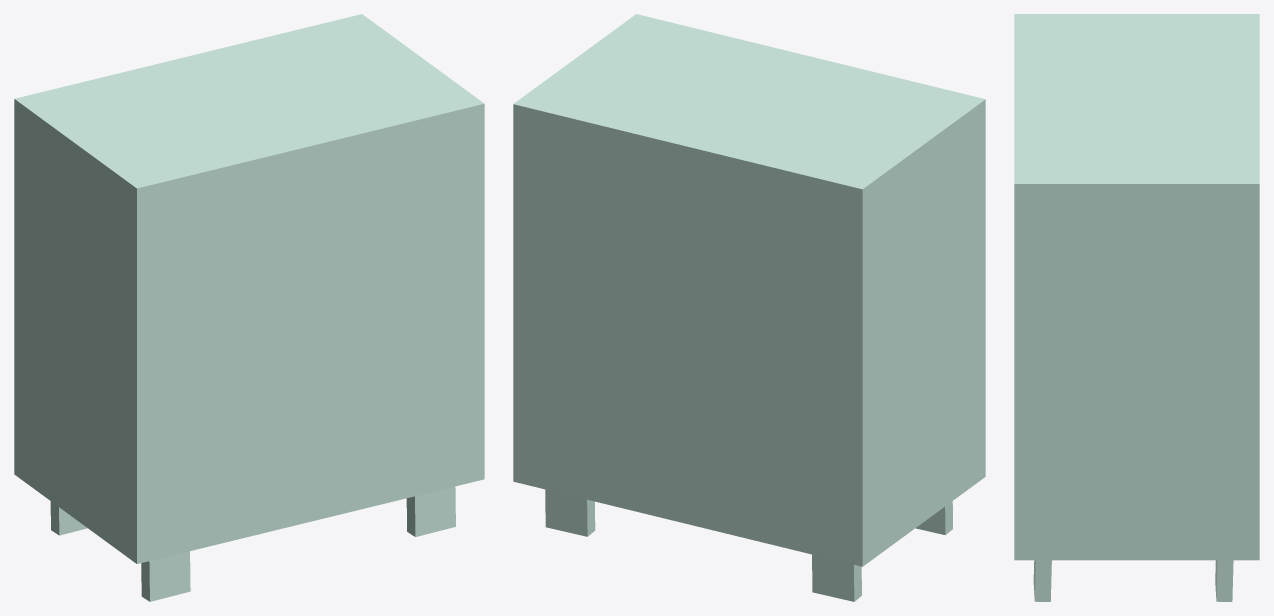
The picture shows the model from 3 angles, left to right: view 1: azimuth 30°, elevation 25°; view 2: azimuth 150°, elevation 25°; view 3: azimuth 270°, elevation 25°; orthographic projection.
Parts seen in each view (by area): view 1: Renderer Node; view 2: Renderer Node; view 3: Renderer Node.
Boxes of the visible parts, bbox=[...] form: Renderer Node: bbox=[14, 14, 484, 601]; Renderer Node: bbox=[513, 14, 985, 601]; Renderer Node: bbox=[1014, 14, 1259, 601].
Bounding box in the file's own units: 0.7266 × 0.8515 × 0.4436.
